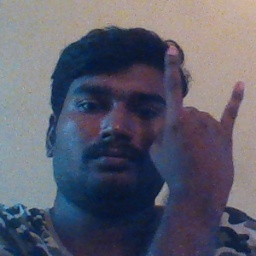V: (146, 44, 249, 201)
